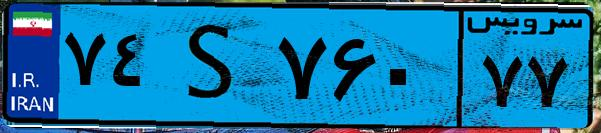0: (385, 28, 445, 110)
4: (110, 28, 158, 98)
6: (330, 28, 385, 110)
7: (270, 28, 330, 110), (57, 26, 110, 100), (475, 38, 525, 113), (525, 38, 570, 115)
S: (158, 12, 270, 120)
